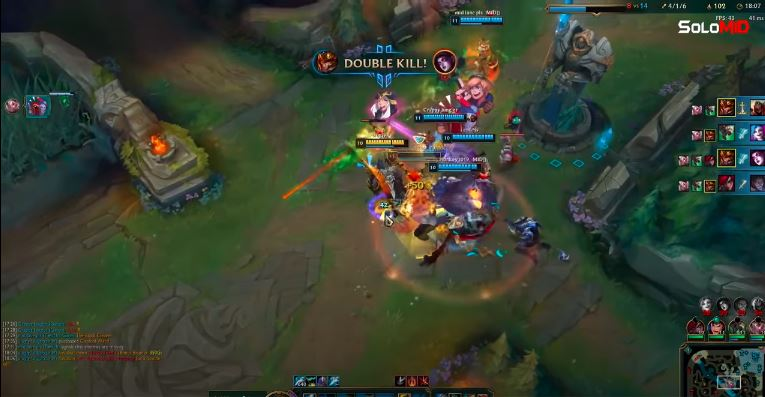bar: (354, 136, 411, 150), (428, 160, 484, 174), (449, 12, 504, 26), (385, 150, 444, 163), (440, 131, 497, 142), (409, 112, 470, 122)
